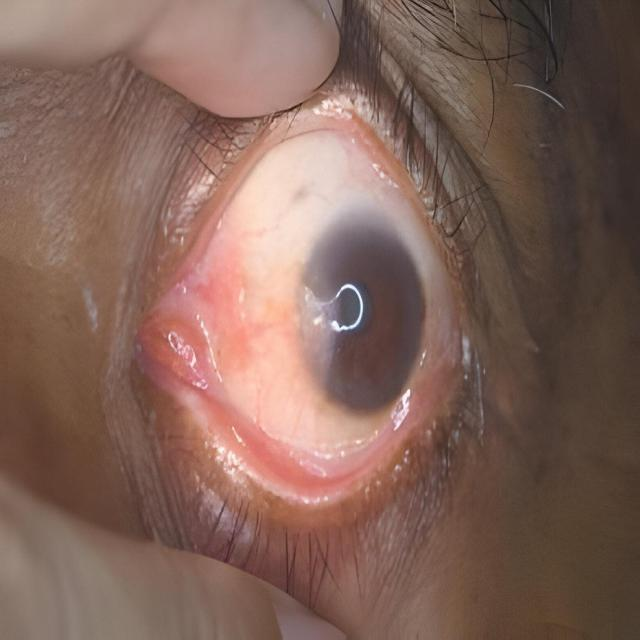Pterygium: (139, 224, 336, 398)
